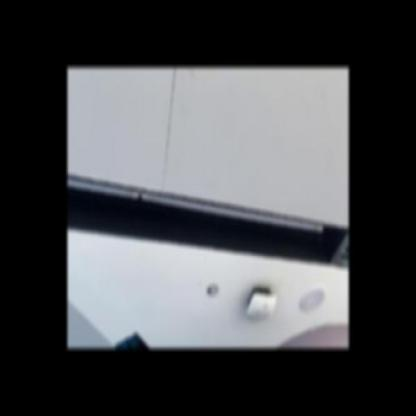light_off: (69, 130, 328, 250)
